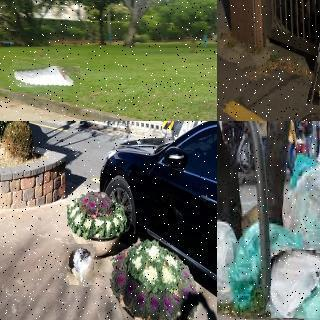Garbage: (232, 225, 302, 313), (268, 247, 320, 320), (293, 152, 320, 262), (217, 220, 246, 305), (9, 63, 81, 95), (67, 243, 95, 286)
